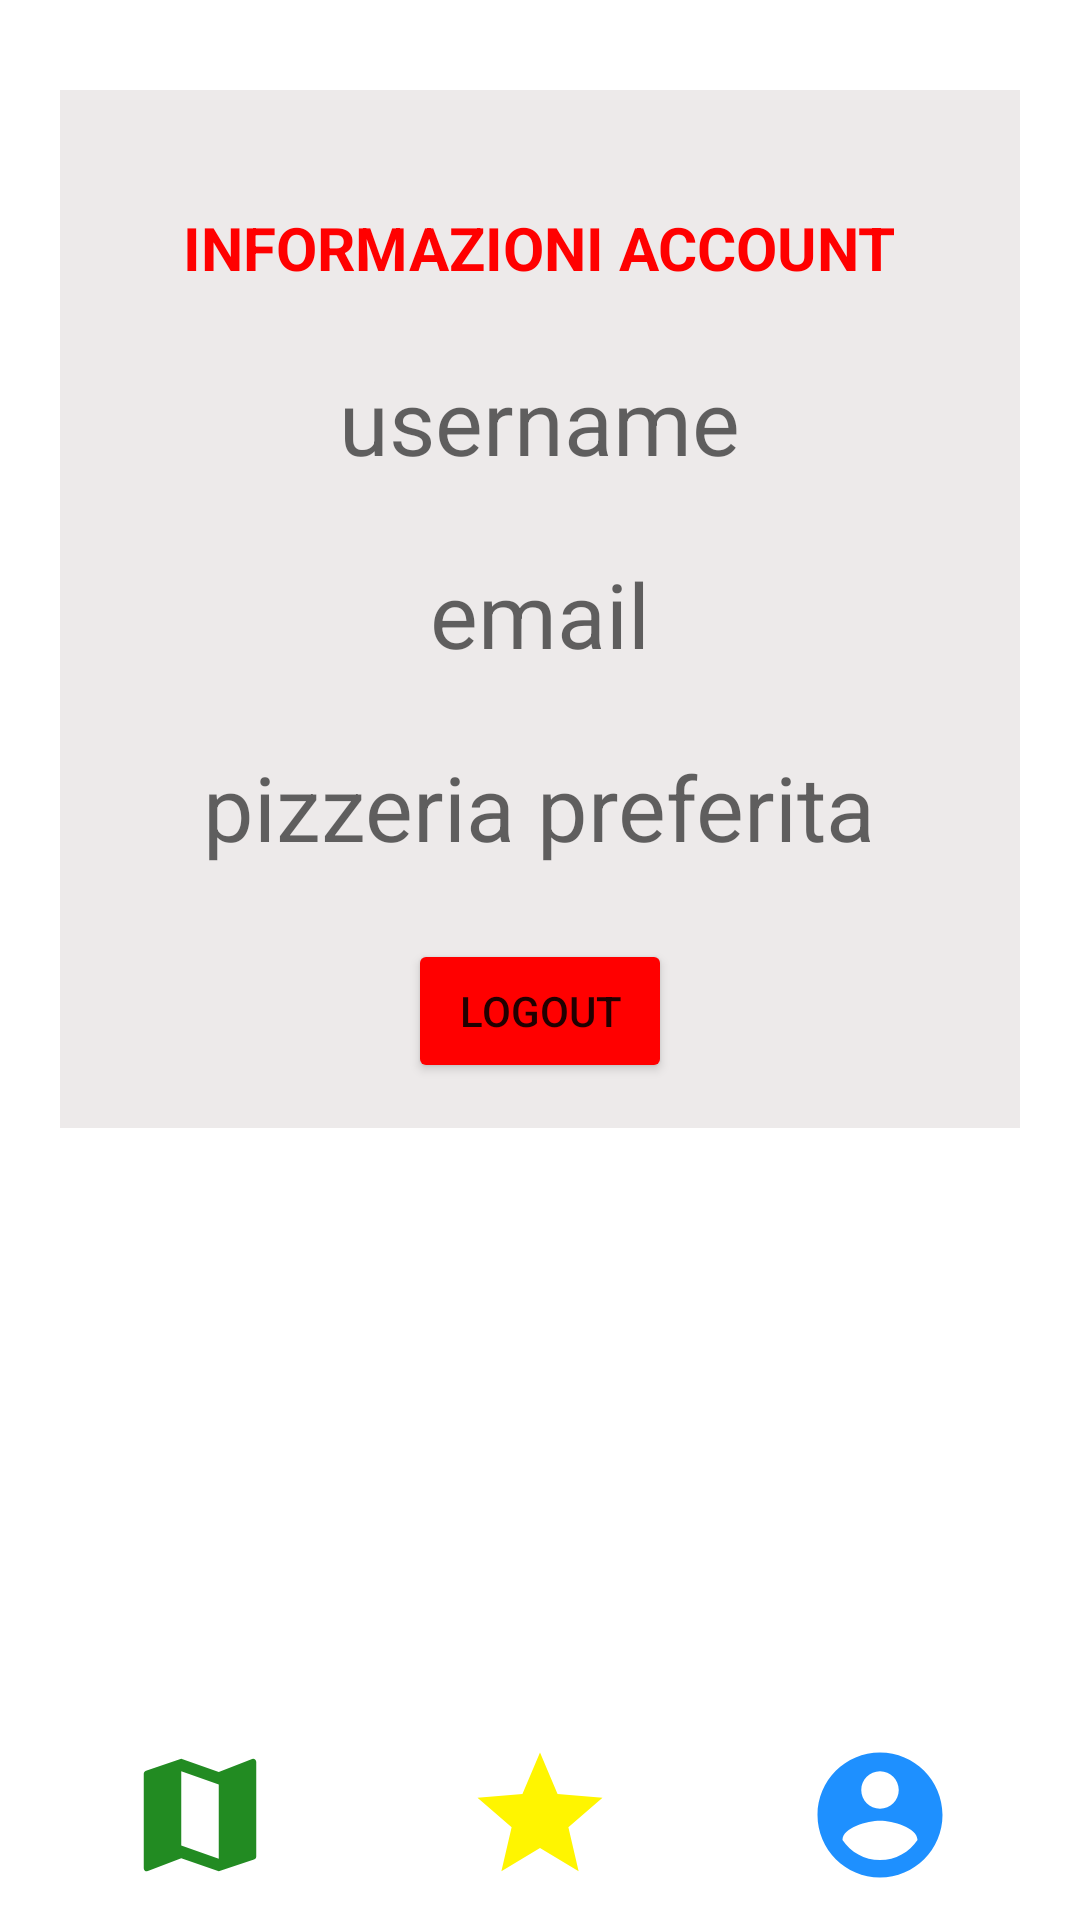

Named icons in this screenshot (1080px×1920px) and their centers, point (x, y):
account circle: point (880, 1815)
map: point (200, 1815)
star: point (540, 1812)
